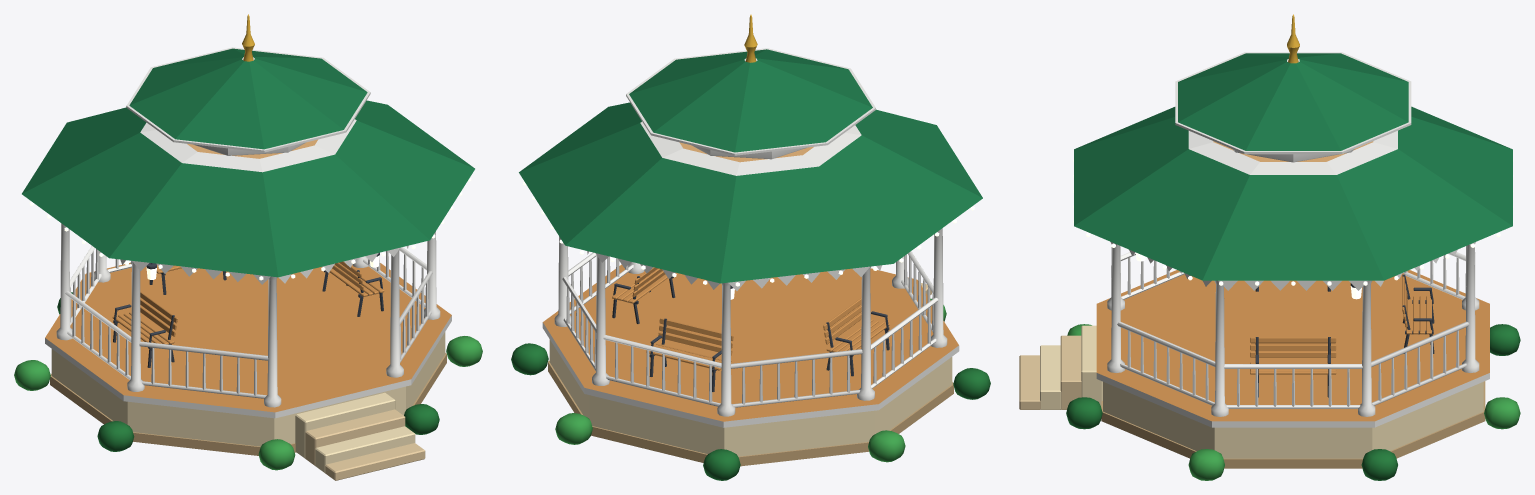
Rendered from coreto.glb.
3 renders of one model, left to right at view 1: azimuth 30°, elevation 25°; view 2: azimuth 150°, elevation 25°; view 3: azimuth 270°, elevation 25°, orthographic. The views are drawn at different scales.
Parts seen in each view (by area): view 1: coreto; view 2: coreto; view 3: coreto.
Part boxes in pixels (<box>): coreto: <box>14,14,482,480</box>; coreto: <box>511,14,990,480</box>; coreto: <box>1019,14,1520,480</box>.
Size of the model in its own units: 7.94 by 7.24 by 8.76.
2 materials, 1 textured.
